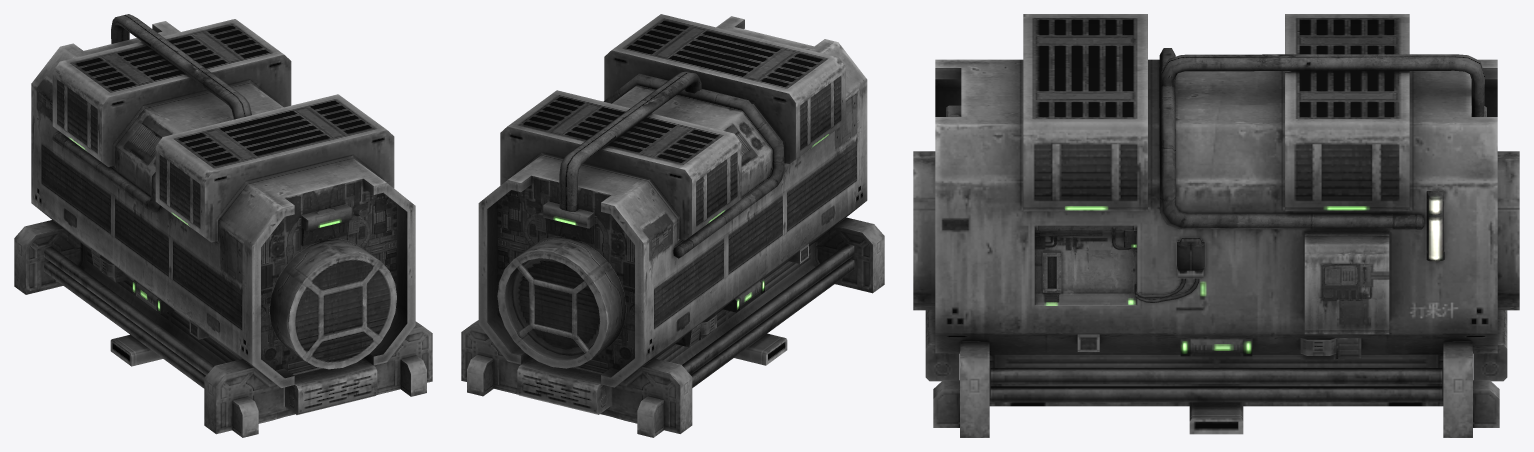
Rendered from Generator_Habitat.DAE.
3 renders of one model, left to right at view 1: azimuth 30°, elevation 25°; view 2: azimuth 150°, elevation 25°; view 3: azimuth 270°, elevation 25°, orthographic. The views are drawn at different scales.
Parts seen in each view (by area): view 1: Generator_Habitat; view 2: Generator_Habitat; view 3: Generator_Habitat.
Boxes of the visible parts, <box> form: Generator_Habitat: <box>14,14,432,437</box>; Generator_Habitat: <box>461,14,884,437</box>; Generator_Habitat: <box>913,14,1519,437</box>.
Size of the model in its own units: 227 by 431 by 247.
